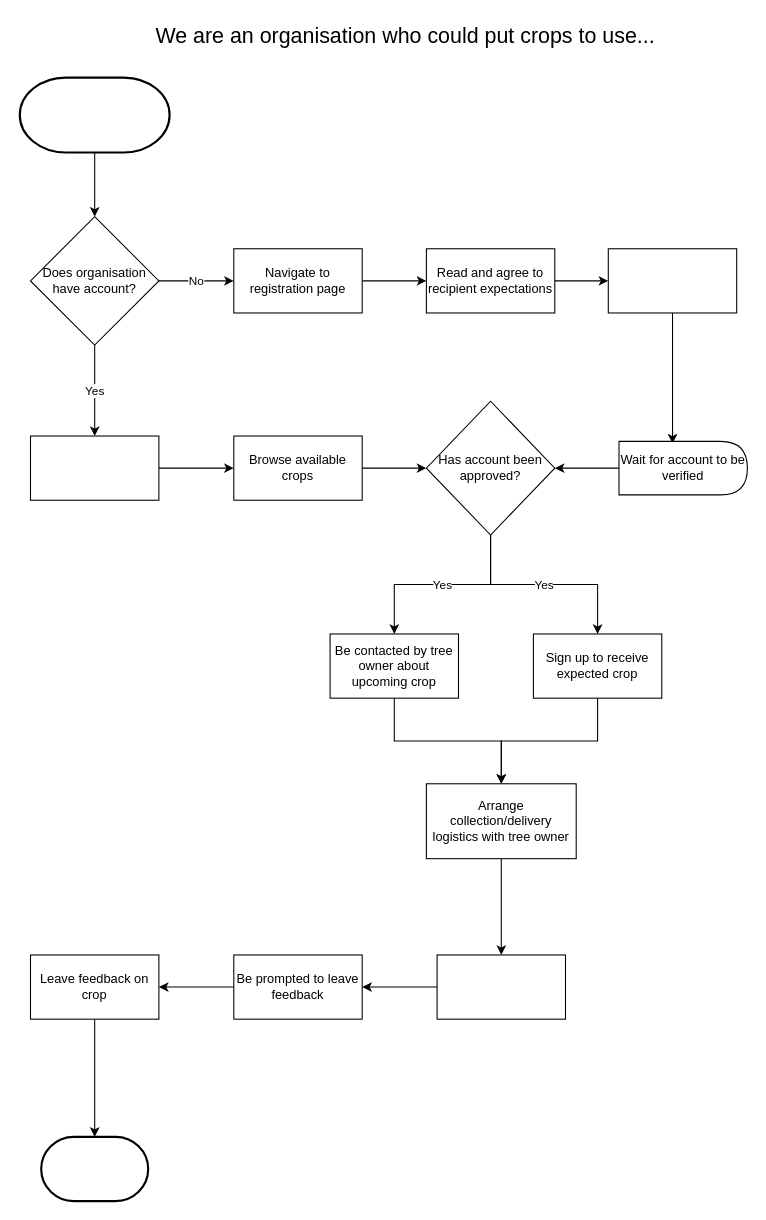
This 766x1220 diagram has some shape labels left out. The shapes that lost their labels are listed below. From the top down, each one's centre as x and y in pixels, then its label:
At [94,114]: "Enter Sweet Pickings Platform".
At [672,280]: "Enter organisation information".
At [94,467]: "Log in".
At [500,986]: "Receive crop".
At [94,1168]: "End".
